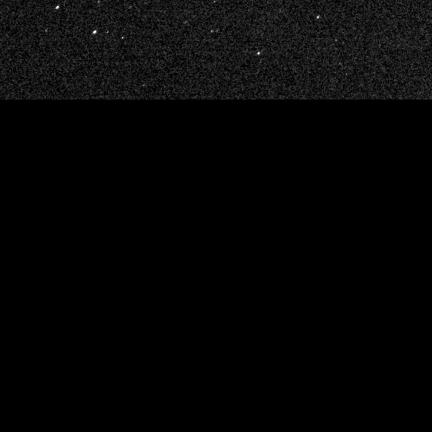blob: (93, 30, 98, 35), (317, 16, 321, 19), (56, 6, 59, 9), (258, 52, 261, 55)
